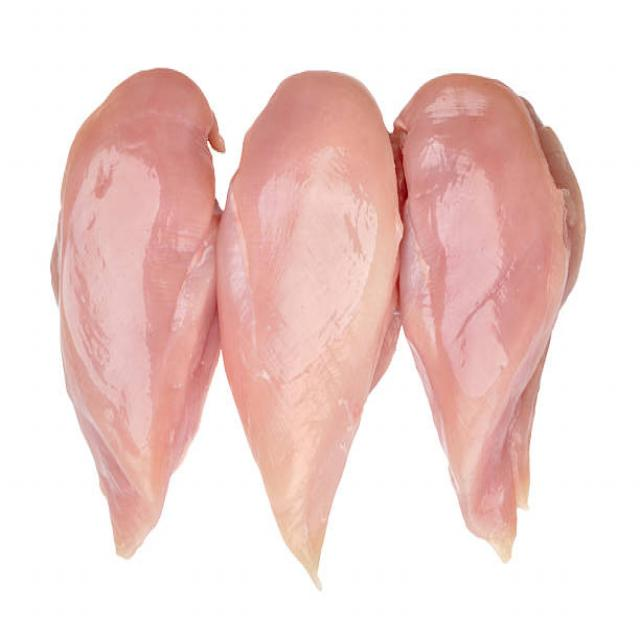Chicken: (409, 48, 599, 574), (224, 58, 399, 581), (61, 48, 220, 530)
